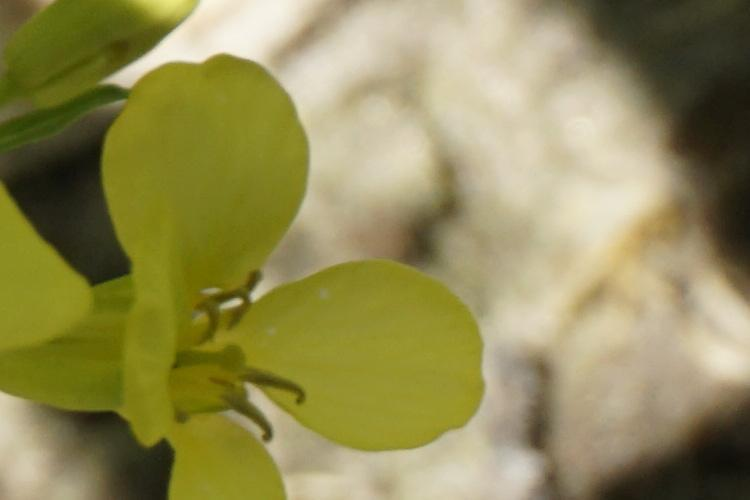yellow: (52, 77, 492, 491)
